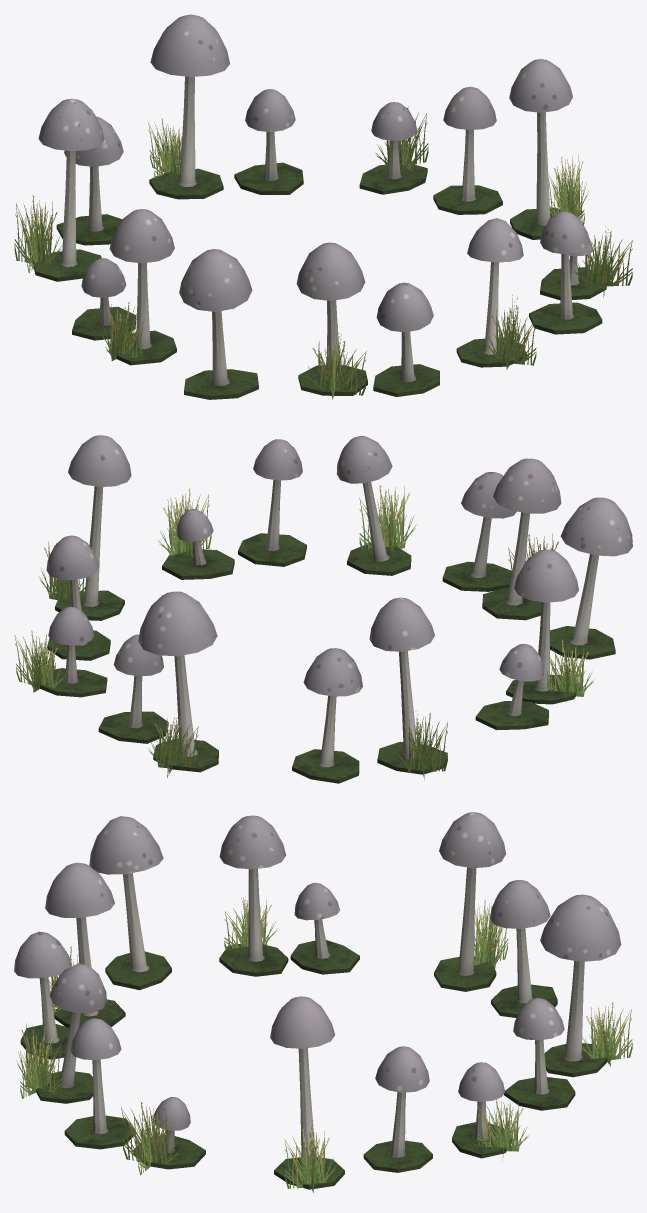
File: MushroomRing.fbx
The picture shows the model from 3 angles, top to bottom: view 1: azimuth 30°, elevation 25°; view 2: azimuth 150°, elevation 25°; view 3: azimuth 270°, elevation 25°; orthographic projection. The views are drawn at different scales.
Parts seen in each view (by area): view 1: MushroomRing_Main, MushroomRing_Leaves; view 2: MushroomRing_Main, MushroomRing_Leaves; view 3: MushroomRing_Main, MushroomRing_Leaves.
Part boxes in pixels (x1,y1,x2,y2): MushroomRing_Main: [32, 14, 606, 399]; MushroomRing_Leaves: [14, 106, 632, 399]; MushroomRing_Main: [37, 435, 632, 783]; MushroomRing_Leaves: [14, 485, 594, 780]; MushroomRing_Main: [14, 812, 621, 1189]; MushroomRing_Leaves: [16, 896, 632, 1192].
Size of the model in its own units: 729 by 230 by 734.
